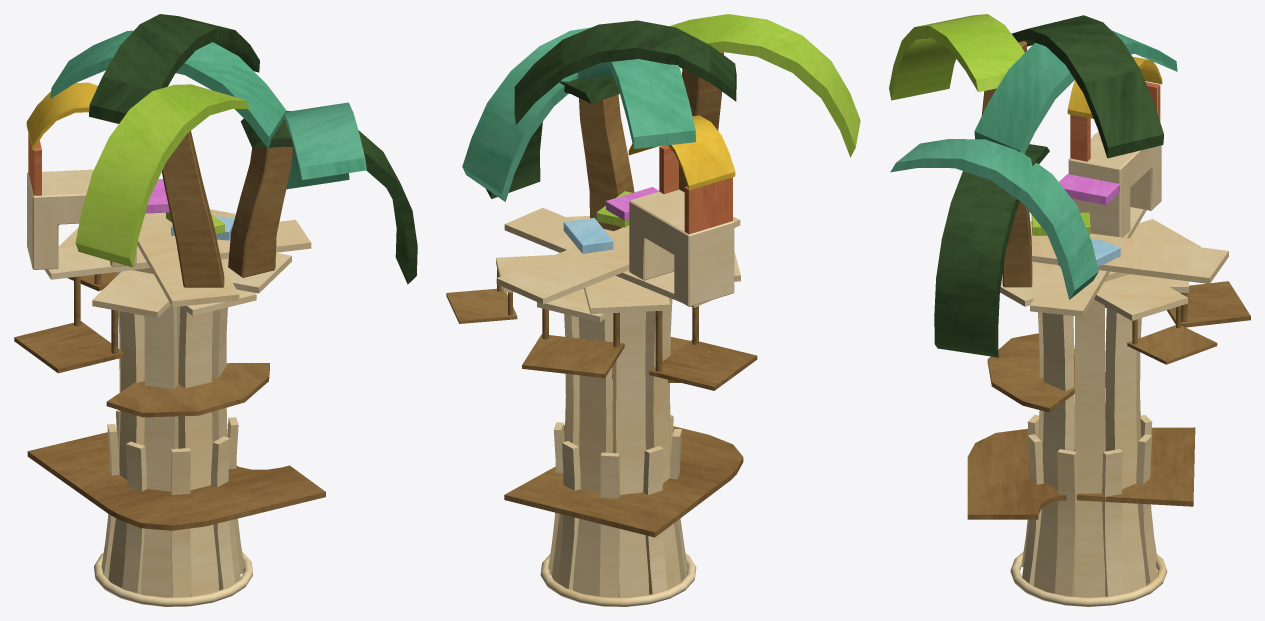
File: tree.fbx
The picture shows the model from 3 angles, left to right: view 1: azimuth 30°, elevation 25°; view 2: azimuth 150°, elevation 25°; view 3: azimuth 270°, elevation 25°; orthographic projection. The views are drawn at different scales.
Visible parts, largest first — view 1: tree; view 2: tree; view 3: tree.
Part boxes in pixels (bbox=[...]): tree: bbox=[14, 14, 417, 606]; tree: bbox=[446, 14, 860, 606]; tree: bbox=[889, 14, 1250, 606].
Bounding box in the file's own units: 16.93 × 25.26 × 15.28.
